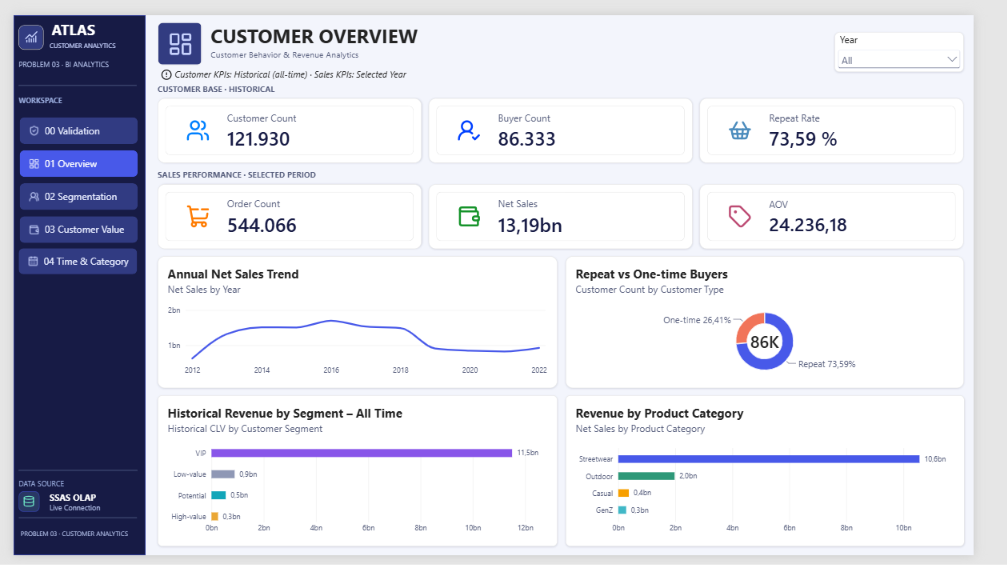

Layout of this report page (visuals, bound fields, positions):
{"tool":"powerbi","page":{"name":"01_Customer_Overview","canvas":[1600,900],"ordinal":1},"visuals":[{"type":"shape","box":[0,0,220,900],"z":0,"group":"g2"},{"type":"shape","box":[240,12.2,74,72],"z":0,"group":"g1"},{"type":"textbox","box":[328,12.2,382,52],"z":0,"group":"g3"},{"type":"image","box":[241.7,90,26.7,18.3],"z":0,"group":"g4"},{"type":"textbox","box":[62.7,9.2,144.4,34.4],"z":1000,"group":"g2"},{"type":"image","box":[254.8,26.6,46.9,43.2],"z":1000,"group":"g1"},{"type":"textbox","box":[328,55.2,736,22],"z":1000,"group":"g3"},{"type":"textbox","box":[268.4,88.3,500,25],"z":1000,"group":"g4"},{"type":"cardVisual","fields":{"Data":["V FACT ORDER OFFICIAL.Order Count"]},"box":[240,281.1,440,108],"z":1000},{"type":"group","id":"g1","title":"Group 2","box":[240,12.2,74,72],"z":2000,"group":"g3"},{"type":"cardVisual","fields":{"Data":["V FACT CUSTOMER ANALYTICS.Buyer Count"]},"box":[692,139.1,440,108],"z":2000},{"type":"actionButton","box":[9.3,170.4,196.9,44.7],"z":2000,"group":"g2"},{"type":"cardVisual","fields":{"Data":["V FACT CUSTOMER ANALYTICS.Customer Count"]},"box":[240,139.1,440,108],"z":3000},{"type":"actionButton","box":[8.9,389,197.7,43.5],"z":3000,"group":"g2"},{"type":"actionButton","box":[9.3,280.2,196.9,44.7],"z":4000,"group":"g2"},{"type":"cardVisual","fields":{"Data":["V FACT SALES LINE OFFICIAL.Net Sales"]},"box":[692,281.1,440,108],"z":4000},{"type":"cardVisual","fields":{"Data":["V FACT CUSTOMER MONTHLY OFFICIAL.AOV"]},"box":[1144,281.1,440,108],"z":5000},{"type":"actionButton","box":[9.3,335.1,196.9,44.7],"z":5000,"group":"g2"},{"type":"cardVisual","fields":{"Data":["Measures.Repeat Rate"]},"box":[1144,139.1,440,108],"z":6000},{"type":"actionButton","box":[9.3,225.3,196.9,44.7],"z":6000,"group":"g2"},{"type":"shape","box":[8.5,16.4,41.2,40.5],"z":7000,"group":"g2"},{"type":"lineChart","title":"Annual Net Sales Trend","fields":{"Category":["Date.Year"],"Y":["V FACT SALES LINE OFFICIAL.Net Sales"]},"box":[240,402,666,220],"z":7000},{"type":"image","box":[17.8,25.5,22.7,22.3],"z":8000,"group":"g2"},{"type":"donutChart","title":"Repeat vs One-time Buyers","fields":{"Category":["Customer.Customer Type"],"Y":["V FACT CUSTOMER ANALYTICS.Customer Count"]},"box":[920,402,664,220],"z":8000},{"type":"textbox","box":[60.3,40.1,139.2,21.7],"z":9000,"group":"g2"},{"type":"clusteredBarChart","title":"Historical Revenue by Segment – All Time","fields":{"Category":["Customer.Customer Segment"],"Y":["V FACT CUSTOMER ANALYTICS.Historical CLV"]},"box":[240,634,666,252],"z":9000},{"type":"textbox","box":[8.9,71.8,197.8,23],"z":10000,"group":"g2"},{"type":"clusteredBarChart","title":"Revenue by Product Category","fields":{"Category":["Product.Category"],"Y":["V FACT SALES LINE OFFICIAL.Net Sales"]},"box":[920,634,665,251.7],"z":10000},{"type":"slicer","fields":{"Values":["Date.Year"]},"box":[1368.3,28.3,215.6,66.7],"z":11000},{"type":"shape","box":[8.5,109.6,196.9,13.8],"z":11000,"group":"g2"},{"type":"group","id":"g2","title":"Group 1","box":[0,0,220,900],"z":12000},{"type":"textbox","box":[8.5,131.9,191.8,20.3],"z":12000,"group":"g2"},{"type":"textbox","box":[240,114.1,700,20],"z":13000},{"type":"shape","box":[8.5,748,198,20.3],"z":13000,"group":"g2"},{"type":"textbox","box":[240,255.8,700,20],"z":14000},{"type":"textbox","box":[8.5,770.3,175.3,20.3],"z":14000,"group":"g2"},{"type":"group","id":"g3","title":"Group 3","box":[240,12.2,823.3,71.7],"z":15000},{"type":"shape","box":[8.5,793.6,35.1,34.5],"z":15000,"group":"g2"},{"type":"group","id":"g4","title":"Group 4","box":[241.7,88.3,526.7,25],"z":16000},{"type":"image","box":[15.7,800.7,20.6,20.3],"z":16000,"group":"g2"},{"type":"textbox","box":[59.6,793.6,123.7,27],"z":17000,"group":"g2"},{"type":"textbox","box":[59.6,810.5,122,18.6],"z":18000,"group":"g2"},{"type":"shape","box":[9.2,832.4,197.7,11.8],"z":19000,"group":"g2"},{"type":"textbox","box":[10.9,852.7,195.9,20.3],"z":20000,"group":"g2"}]}

Visuals, with their boxes on the page's 1600x900 design canvas (x1, y1, x2, y2). These are canvas units, not pixel positions in the 1007x565 screenshot, which may show the page scaled, cropped or inside an application window:
shape: bbox(0, 0, 220, 900)
shape: bbox(240, 12, 314, 84)
textbox: bbox(328, 12, 710, 64)
image: bbox(242, 90, 268, 108)
textbox: bbox(63, 9, 207, 44)
image: bbox(255, 27, 302, 70)
textbox: bbox(328, 55, 1064, 77)
textbox: bbox(268, 88, 768, 113)
cardVisual - V FACT ORDER OFFICIAL.Order Count: bbox(240, 281, 680, 389)
"Group 2" group: bbox(240, 12, 314, 84)
cardVisual - V FACT CUSTOMER ANALYTICS.Buyer Count: bbox(692, 139, 1132, 247)
actionButton: bbox(9, 170, 206, 215)
cardVisual - V FACT CUSTOMER ANALYTICS.Customer Count: bbox(240, 139, 680, 247)
actionButton: bbox(9, 389, 207, 432)
actionButton: bbox(9, 280, 206, 325)
cardVisual - V FACT SALES LINE OFFICIAL.Net Sales: bbox(692, 281, 1132, 389)
cardVisual - V FACT CUSTOMER MONTHLY OFFICIAL.AOV: bbox(1144, 281, 1584, 389)
actionButton: bbox(9, 335, 206, 380)
cardVisual - Measures.Repeat Rate: bbox(1144, 139, 1584, 247)
actionButton: bbox(9, 225, 206, 270)
shape: bbox(8, 16, 50, 57)
"Annual Net Sales Trend" lineChart: bbox(240, 402, 906, 622)
image: bbox(18, 26, 40, 48)
"Repeat vs One-time Buyers" donutChart: bbox(920, 402, 1584, 622)
textbox: bbox(60, 40, 200, 62)
"Historical Revenue by Segment – All Time" clusteredBarChart: bbox(240, 634, 906, 886)
textbox: bbox(9, 72, 207, 95)
"Revenue by Product Category" clusteredBarChart: bbox(920, 634, 1585, 886)
slicer - Date.Year: bbox(1368, 28, 1584, 95)
shape: bbox(8, 110, 205, 123)
"Group 1" group: bbox(0, 0, 220, 900)
textbox: bbox(8, 132, 200, 152)
textbox: bbox(240, 114, 940, 134)
shape: bbox(8, 748, 206, 768)
textbox: bbox(240, 256, 940, 276)
textbox: bbox(8, 770, 184, 791)
"Group 3" group: bbox(240, 12, 1063, 84)
shape: bbox(8, 794, 44, 828)
"Group 4" group: bbox(242, 88, 768, 113)
image: bbox(16, 801, 36, 821)
textbox: bbox(60, 794, 183, 821)
textbox: bbox(60, 810, 182, 829)
shape: bbox(9, 832, 207, 844)
textbox: bbox(11, 853, 207, 873)
